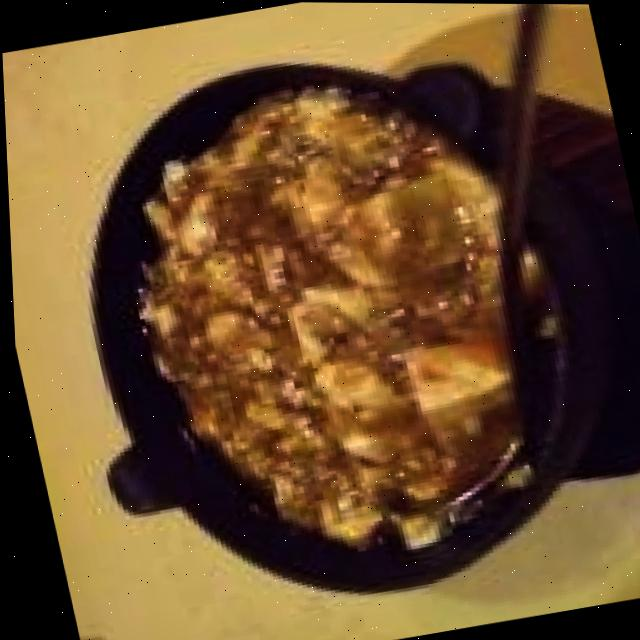豆腐料理: (11, 10, 640, 640)
